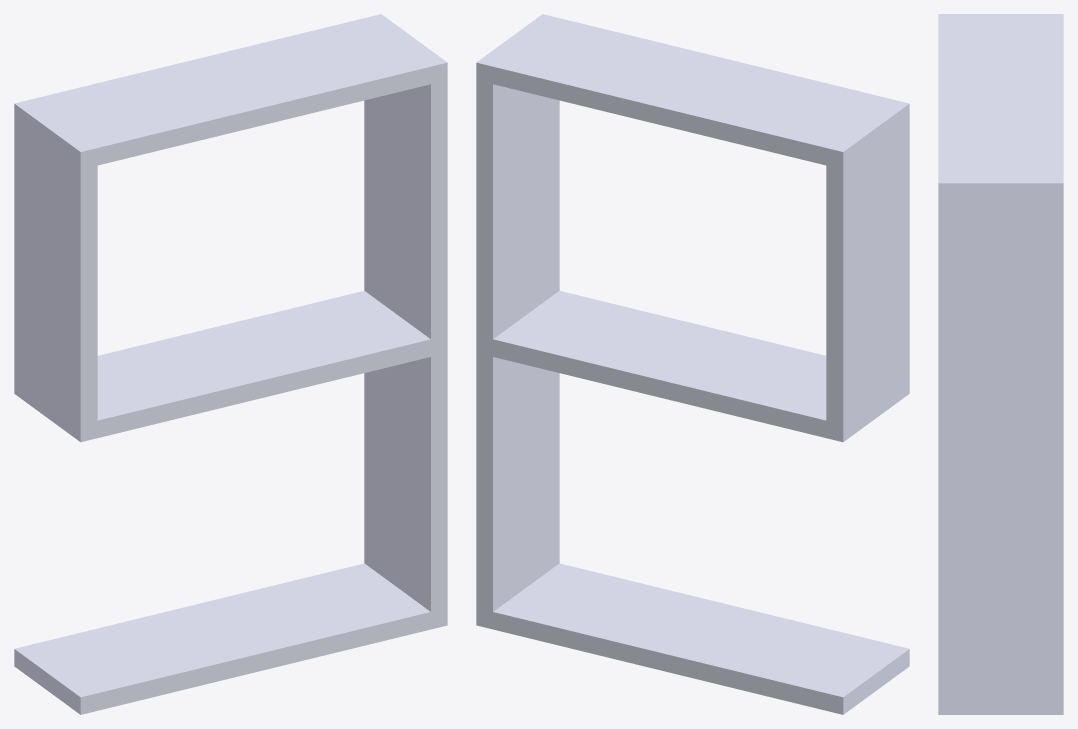
File: 35f9b610-a47f-41a6-a55f-c5c93d32fed7.glb
The picture shows the model from 3 angles, left to right: view 1: azimuth 30°, elevation 25°; view 2: azimuth 150°, elevation 25°; view 3: azimuth 270°, elevation 25°; orthographic projection. The views are drawn at different scales.
Visible parts, largest first — view 1: 9_AlphaProta_Grey; view 2: 9_AlphaProta_Grey; view 3: 9_AlphaProta_Grey.
Part boxes in pixels (left/top/right/bottom): 9_AlphaProta_Grey: left=14, top=14, right=447, bottom=714; 9_AlphaProta_Grey: left=476, top=14, right=909, bottom=714; 9_AlphaProta_Grey: left=938, top=14, right=1063, bottom=714.
Size of what is drawn, in the model's own units: 0.1436 by 0.2105 by 0.045.
Materials: 2 (2 with a texture image).
